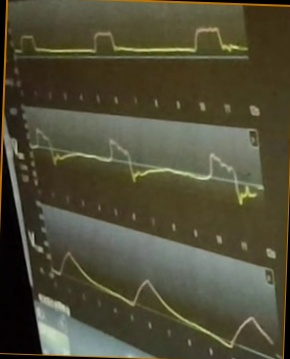Accumulation Flow: (31, 126, 256, 207)
Volume: (51, 249, 272, 349)
